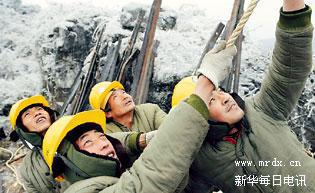helmet: (39, 109, 124, 175), (168, 73, 244, 124), (7, 94, 53, 135), (87, 81, 136, 116)
